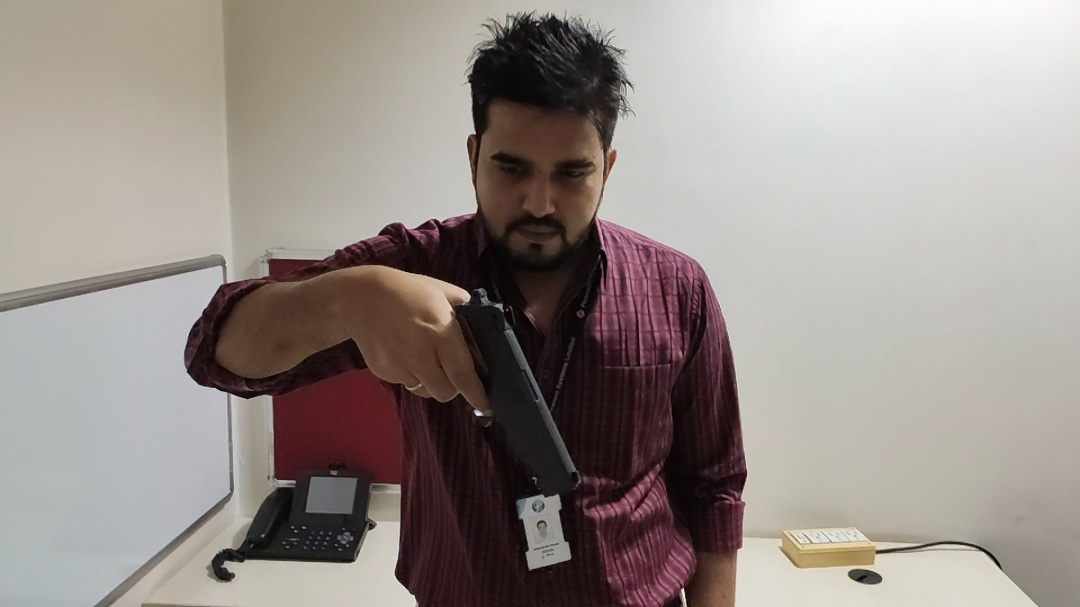gun: (395, 288, 591, 496)
